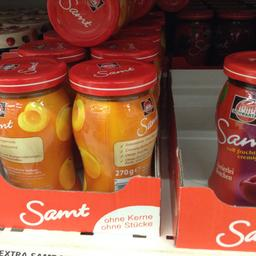jam: (68, 57, 158, 191), (0, 55, 81, 190), (209, 50, 255, 204)
